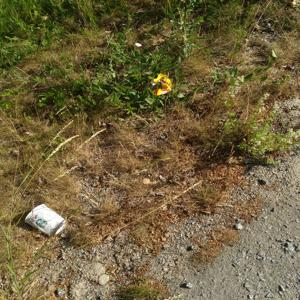cardboard: (19, 202, 67, 234)
plastic: (149, 68, 171, 96)
